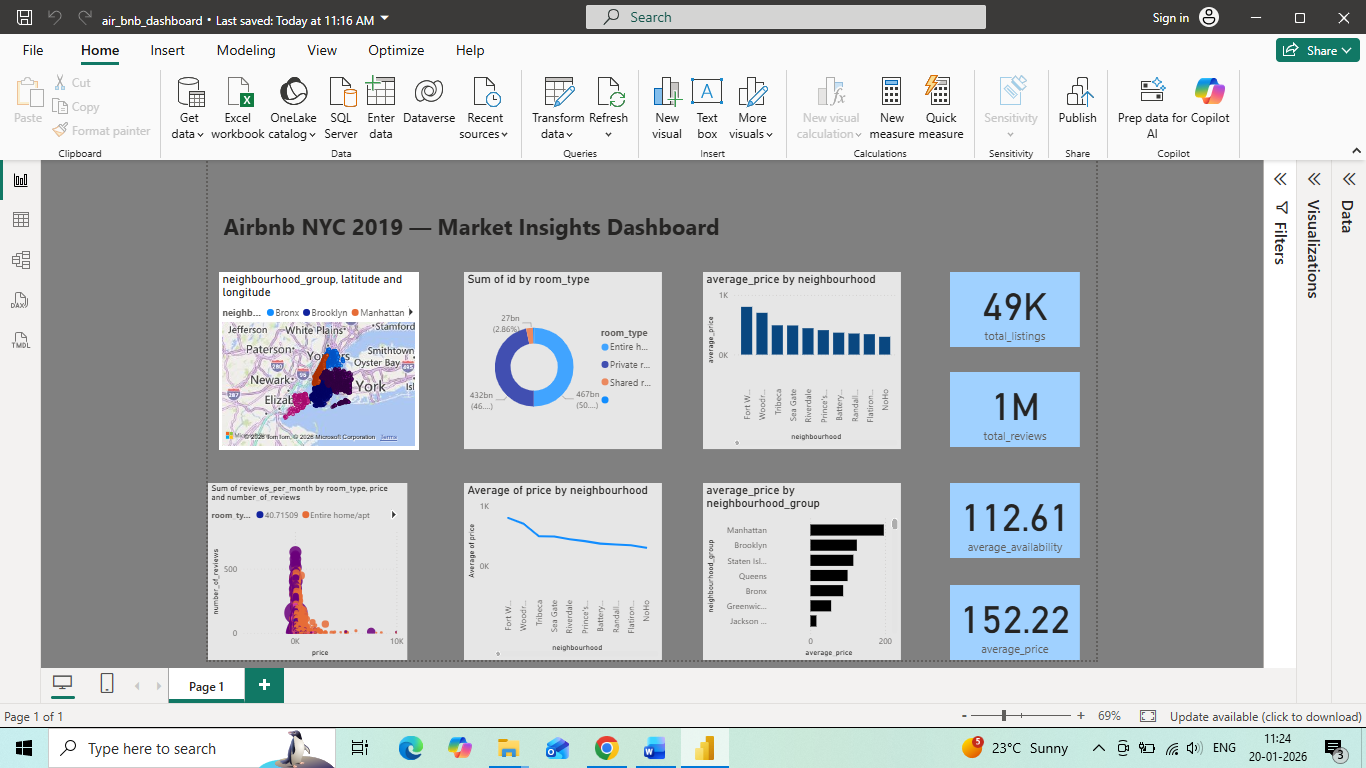

Layout of this report page (visuals, bound fields, positions):
{"tool":"powerbi","page":{"name":"Page 1","canvas":[1280,720],"ordinal":0},"visuals":[{"type":"map","fields":{"X":["Airbnb NYC 2019.longitude"],"Y":["Airbnb NYC 2019.latitude"],"Series":["Airbnb NYC 2019.neighbourhood_group"]},"box":[15.8,161.3,286.6,254.9],"z":0},{"type":"card","fields":{"Values":["Airbnb NYC 2019.total_listings"]},"box":[1068.5,161.3,187.2,108],"z":1000},{"type":"card","fields":{"Values":["Airbnb NYC 2019.total_reviews"]},"box":[1068.5,305.3,187.2,108],"z":2000},{"type":"card","fields":{"Values":["Airbnb NYC 2019.average_availability"]},"box":[1068.5,465.1,187.2,108],"z":3000},{"type":"card","fields":{"Values":["Airbnb NYC 2019.average_price"]},"box":[1068.5,612,187.2,108],"z":4000},{"type":"donutChart","fields":{"Category":["Airbnb NYC 2019.room_type"],"Y":["Sum(Airbnb NYC 2019.id)"]},"box":[368.6,161.3,285.1,254.9],"z":5000},{"type":"barChart","fields":{"Category":["Airbnb NYC 2019.neighbourhood_group"],"Y":["Airbnb NYC 2019.average_price"]},"box":[712.8,465.1,285.1,254.9],"z":6000},{"type":"lineChart","fields":{"Y":["Avg(Airbnb NYC 2019.price)"],"Category":["Airbnb NYC 2019.neighbourhood"]},"box":[368.6,465.1,285.1,254.9],"z":7000},{"type":"scatterChart","fields":{"X":["Airbnb NYC 2019.price"],"Y":["Airbnb NYC 2019.number_of_reviews"],"Size":["Sum(Airbnb NYC 2019.reviews_per_month)"],"Series":["Airbnb NYC 2019.room_type"]},"box":[0,465.1,286.6,254.9],"z":8000},{"type":"columnChart","fields":{"Category":["Airbnb NYC 2019.neighbourhood"],"Y":["Airbnb NYC 2019.average_price"]},"box":[712.8,161.3,285.1,254.9],"z":9000},{"type":"textbox","box":[17.3,67.7,760.3,60.5],"z":10000}]}

Visuals, with their boxes on the page's 1280x720 design canvas (x1, y1, x2, y2). These are canvas units, not pixel positions in the 1366x768 screenshot, which may show the page scaled, cropped or inside an application window:
map - Airbnb NYC 2019.longitude x Airbnb NYC 2019.latitude: region(16, 161, 302, 416)
card - Airbnb NYC 2019.total_listings: region(1068, 161, 1256, 269)
card - Airbnb NYC 2019.total_reviews: region(1068, 305, 1256, 413)
card - Airbnb NYC 2019.average_availability: region(1068, 465, 1256, 573)
card - Airbnb NYC 2019.average_price: region(1068, 612, 1256, 720)
donutChart - Airbnb NYC 2019.room_type x Sum(Airbnb NYC 2019.id): region(369, 161, 654, 416)
barChart - Airbnb NYC 2019.neighbourhood_group x Airbnb NYC 2019.average_price: region(713, 465, 998, 720)
lineChart - Avg(Airbnb NYC 2019.price) x Airbnb NYC 2019.neighbourhood: region(369, 465, 654, 720)
scatterChart - Airbnb NYC 2019.price x Airbnb NYC 2019.number_of_reviews: region(0, 465, 287, 720)
columnChart - Airbnb NYC 2019.neighbourhood x Airbnb NYC 2019.average_price: region(713, 161, 998, 416)
textbox: region(17, 68, 778, 128)
